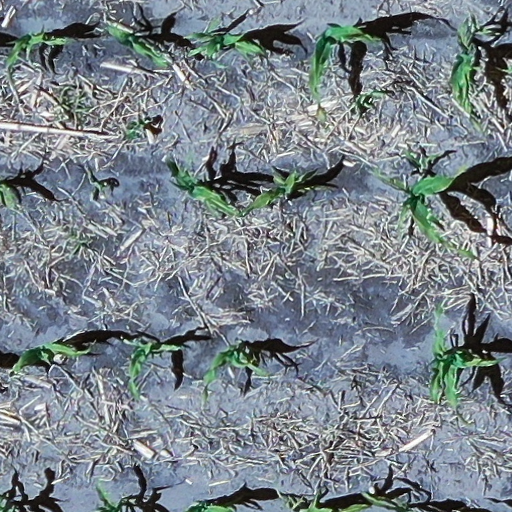planta: (373, 162, 475, 259), (428, 305, 507, 425), (308, 24, 380, 129), (449, 19, 494, 137), (165, 148, 242, 216), (203, 344, 281, 403), (120, 334, 182, 398), (236, 164, 307, 216), (186, 18, 265, 58), (11, 342, 92, 377), (107, 24, 168, 67), (4, 32, 71, 71)
